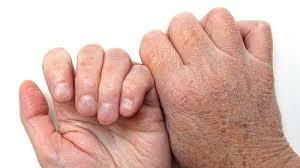Dry-Skin: (179, 60, 269, 160)
